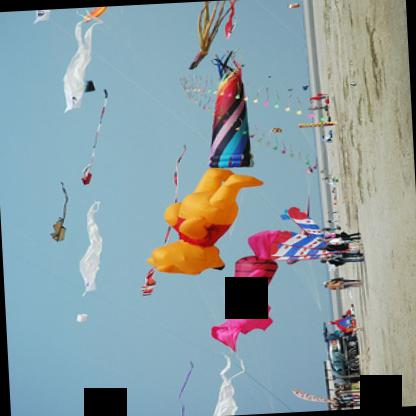backpack: (331, 260, 344, 264)
